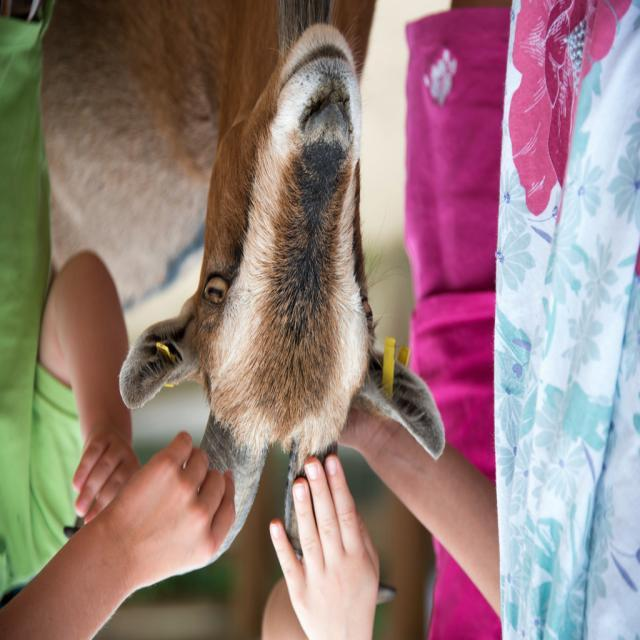Goat: (39, 2, 447, 568)
